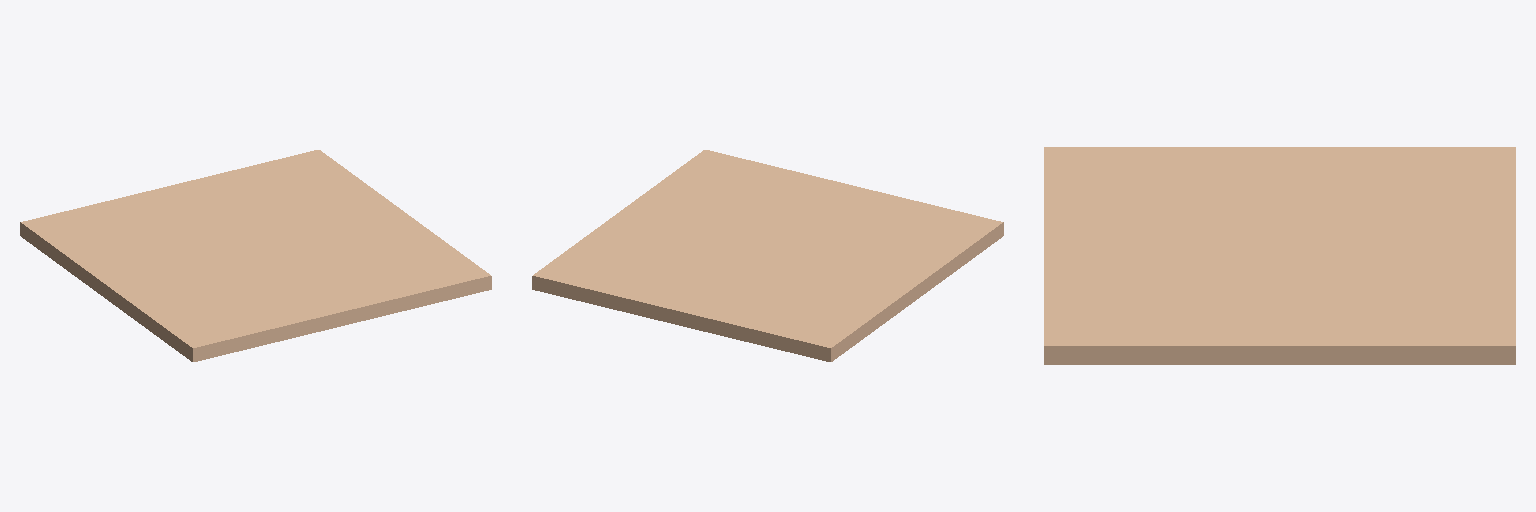
robot.urdf — flat_terrain:
<?xml version="1.0"?>
<robot name="flat_terrain">
  <link name="base_link">
    <visual>
      <origin xyz="0 0 -0.05" rpy="0 0 0" />
      <geometry>
        <box size="2.2 2.2 0.1" />
      </geometry>
      <material name="desert sand">
        <color rgba="0.9297 0.7930 0.6758 1" />
      </material>
    </visual>
    <collision>
      <origin xyz="0 0 -0.05" rpy="0 0 0" />
      <geometry>
        <box size="2.2 2.2 0.1" />
      </geometry>
    </collision>
  </link>
</robot>

--- What the picture shows (computed from the rendered views, not written in the file) ---
The picture shows the robot from 3 angles, left to right: view 1: azimuth 30°, elevation 25°; view 2: azimuth 150°, elevation 25°; view 3: azimuth 270°, elevation 25°; orthographic projection.
Model flat_terrain with 1 links and 0 joints (none), rooted at base_link, posed all joints at 0.
Links seen in each view (by area): view 1: base_link; view 2: base_link; view 3: base_link.
Boxes of the visible links, left/top/right/bottom form: base_link: left=20, top=150, right=491, bottom=361; base_link: left=532, top=150, right=1003, bottom=361; base_link: left=1044, top=147, right=1515, bottom=364.
Size in the robot's own frame: 2.2 by 2.2 by 0.1 metres.
Geometry: primitives only (box / cylinder / sphere), no mesh files.
